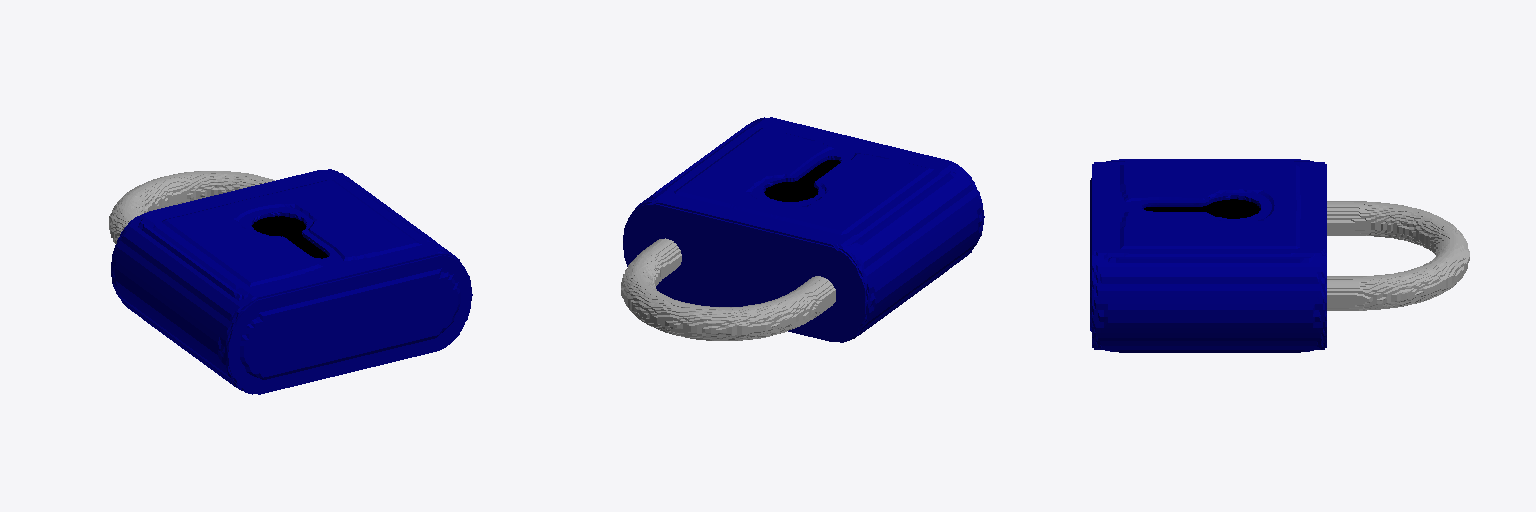
File: lock.obj
The picture shows the model from 3 angles: view 1: azimuth 30°, elevation 25°; view 2: azimuth 150°, elevation 25°; view 3: azimuth 270°, elevation 25°; orthographic projection.
Bounding box in the file's own units: 144 × 56 × 191.